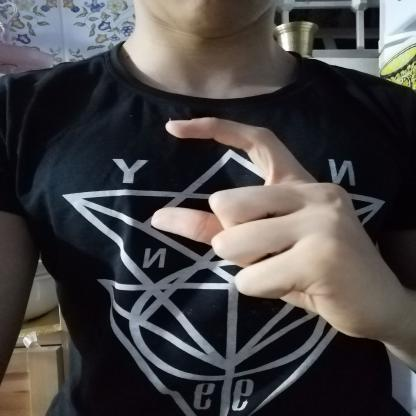DELL: (135, 106, 408, 345)
